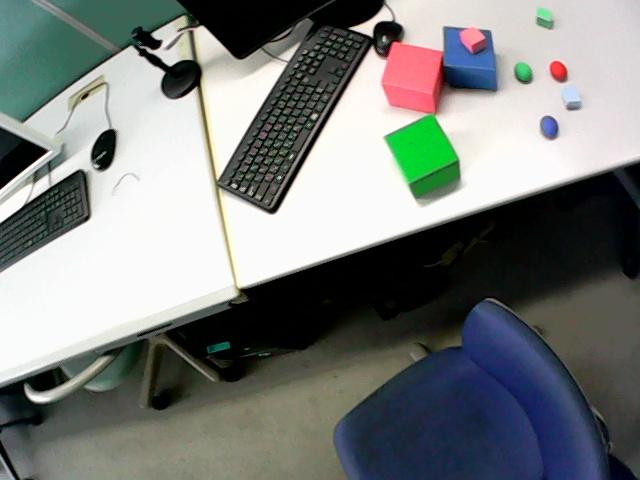blue_block: (443, 27, 497, 90), (562, 86, 581, 109)
red_block: (382, 42, 442, 112), (460, 27, 486, 53)
